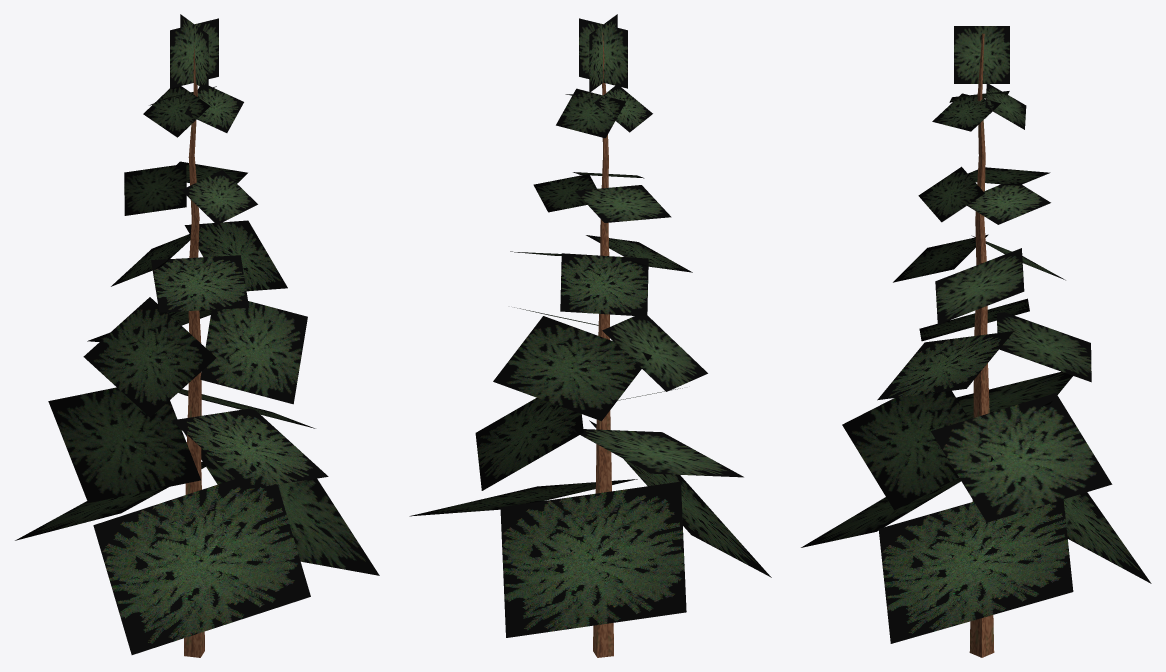
Rendered from Pine_2_LOD2.gltf.
The picture shows the model from 3 angles, left to right: view 1: azimuth 30°, elevation 25°; view 2: azimuth 150°, elevation 25°; view 3: azimuth 270°, elevation 25°; orthographic projection.
Visible parts, largest first — view 1: Pine_2_LOD2; view 2: Pine_2_LOD2; view 3: Pine_2_LOD2.
Part boxes in pixels (x1,y1,x2,y2): Pine_2_LOD2: (15, 14, 379, 657); Pine_2_LOD2: (409, 14, 771, 657); Pine_2_LOD2: (801, 26, 1151, 657).
Size of the model in its own units: 7.97 by 17.03 by 8.66.
Materials: 2 (2 with a texture image).
